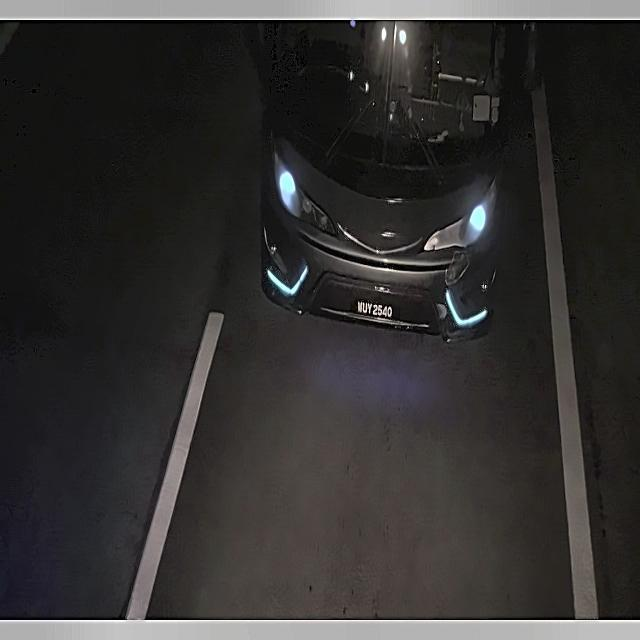car: (346, 293, 401, 325)
